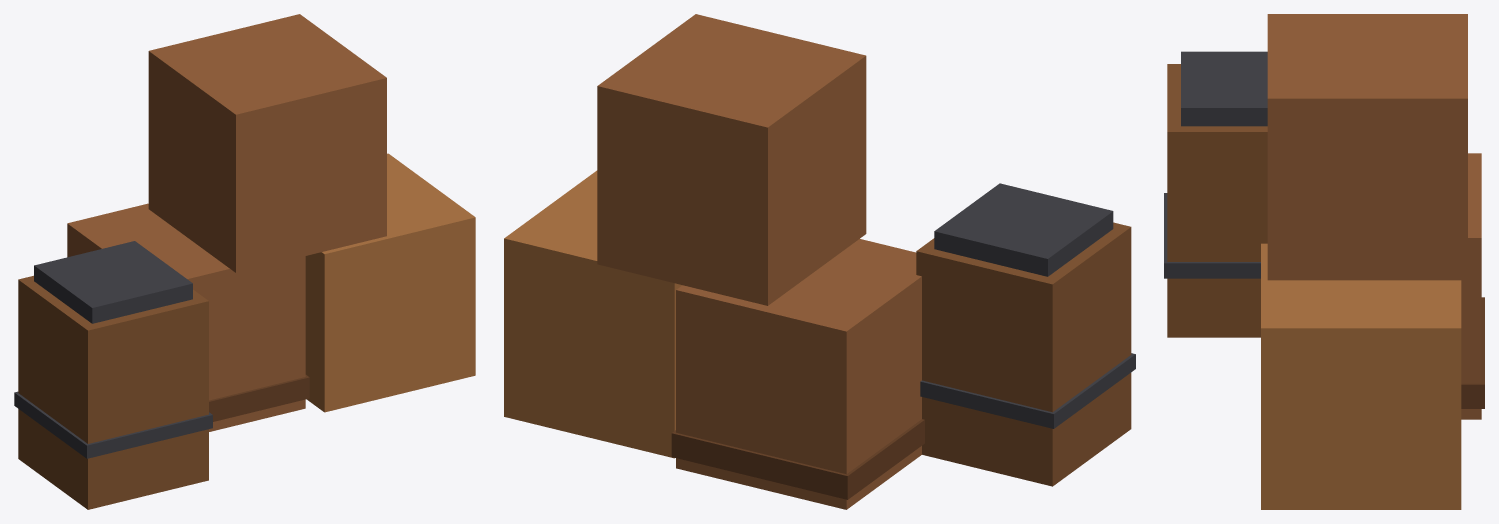
Rendered from CrateStack.glb.
The picture shows the model from 3 angles, left to right: view 1: azimuth 30°, elevation 25°; view 2: azimuth 150°, elevation 25°; view 3: azimuth 270°, elevation 25°; orthographic projection. The views are drawn at different scales.
Parts seen in each view (by area): view 1: CrateStack; view 2: CrateStack; view 3: CrateStack.
Part boxes in pixels (x1,y1,x2,y2): CrateStack: (14,14,475,509); CrateStack: (504,14,1135,509); CrateStack: (1164,14,1484,509).
Bounding box in the file's own units: 8.55 × 6 × 4.8.
1 material, 1 textured.
